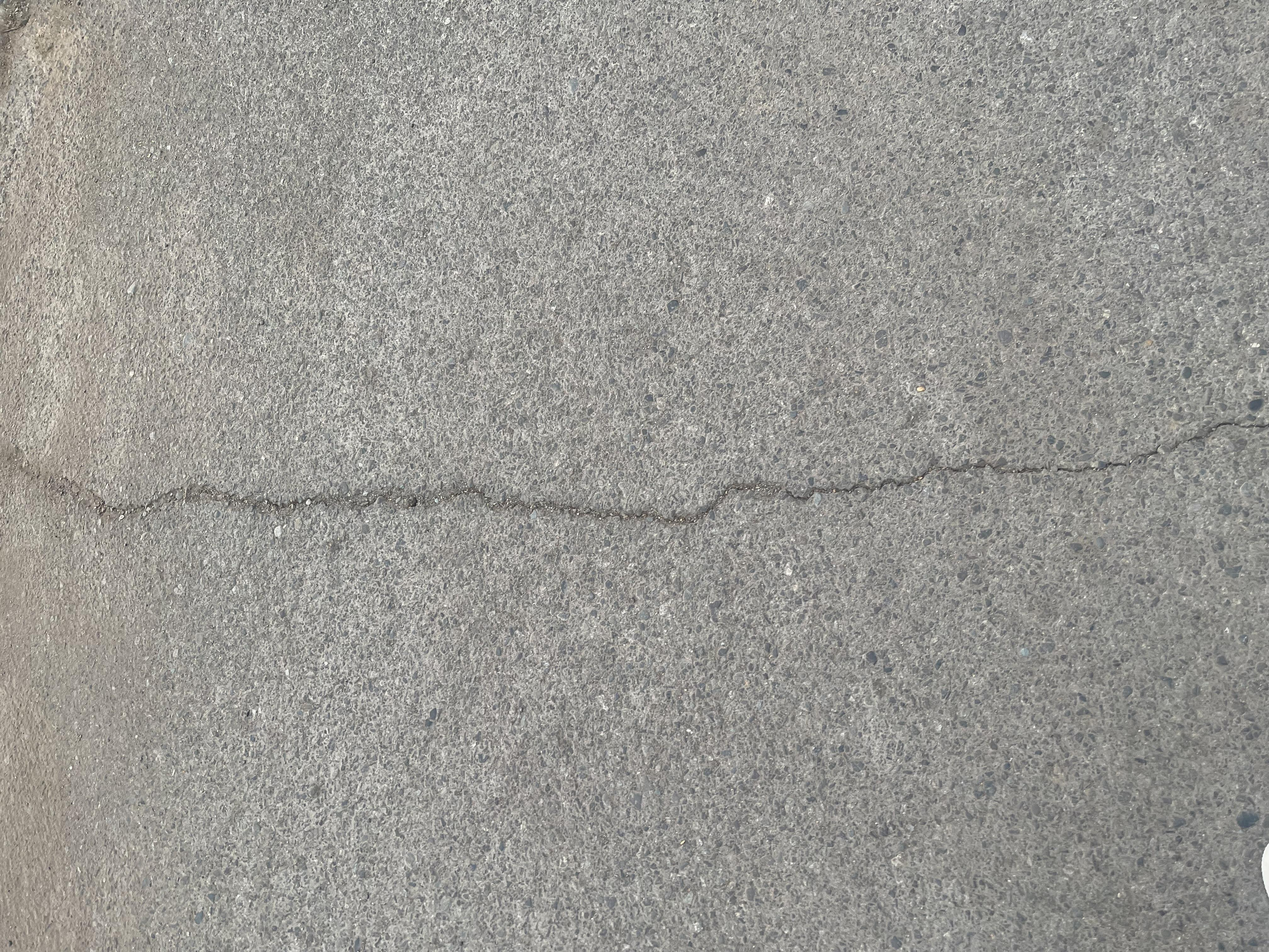GRIETA: (311, 418, 1269, 524), (0, 445, 307, 519)
